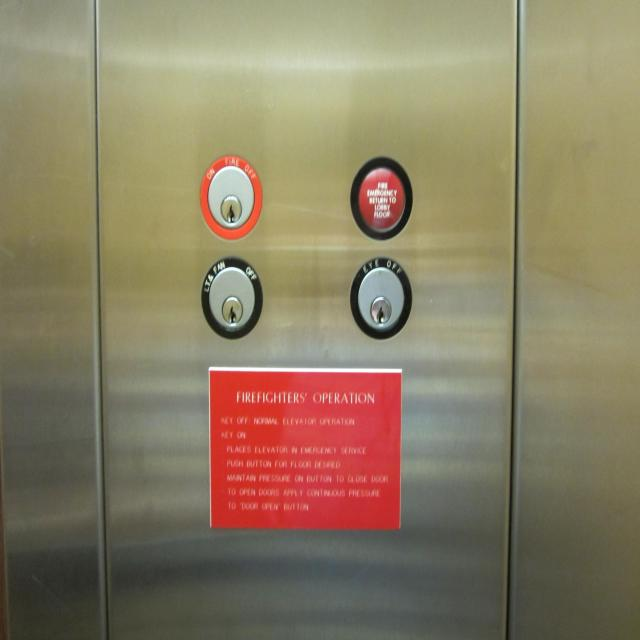keyhole: (197, 148, 264, 247), (347, 252, 416, 343), (199, 251, 267, 341)
text: (347, 150, 417, 245)
